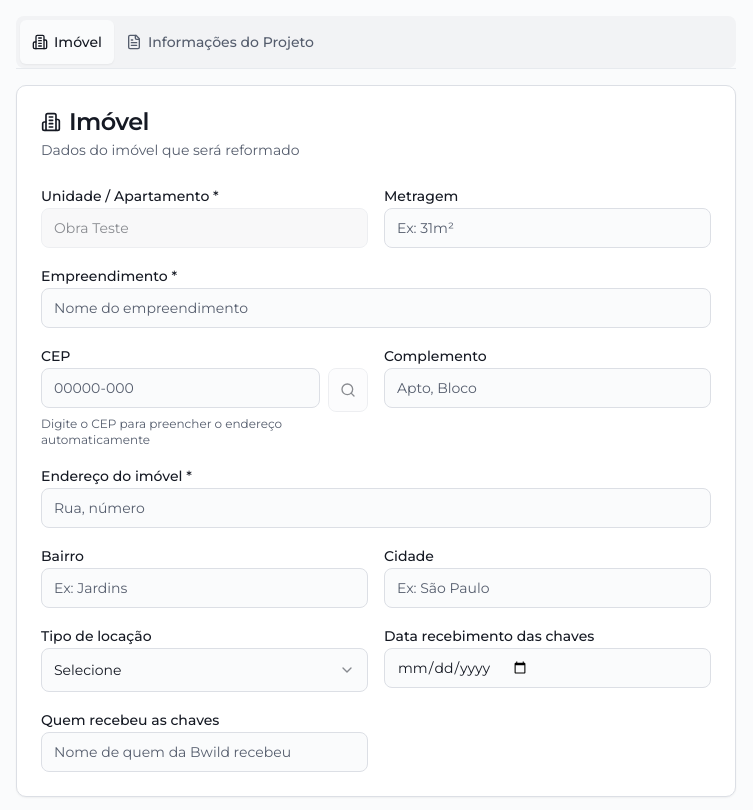
Scenario: DadosCliente · Ficha da obra (campos novos) › banco ainda sem as colunas novas: salvar o resto continua funcionando
Later steps or results of the test are not shown.
Click the tab "Informações do Projeto" at (220, 42), box [114,20,326,64]
(page scrolled)
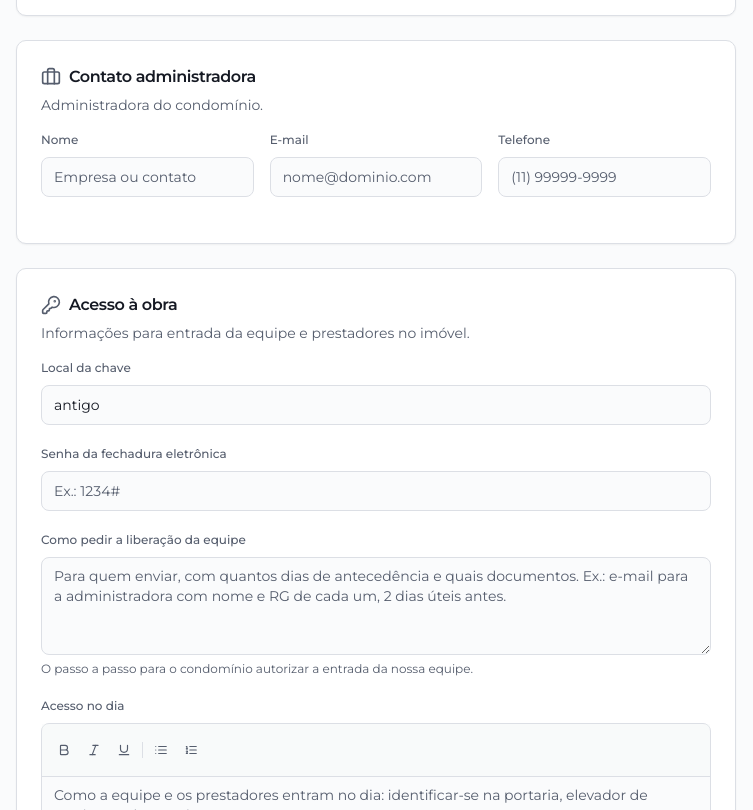
Now the field labelled "Local da chave" is shown, box [41,385,711,425]
